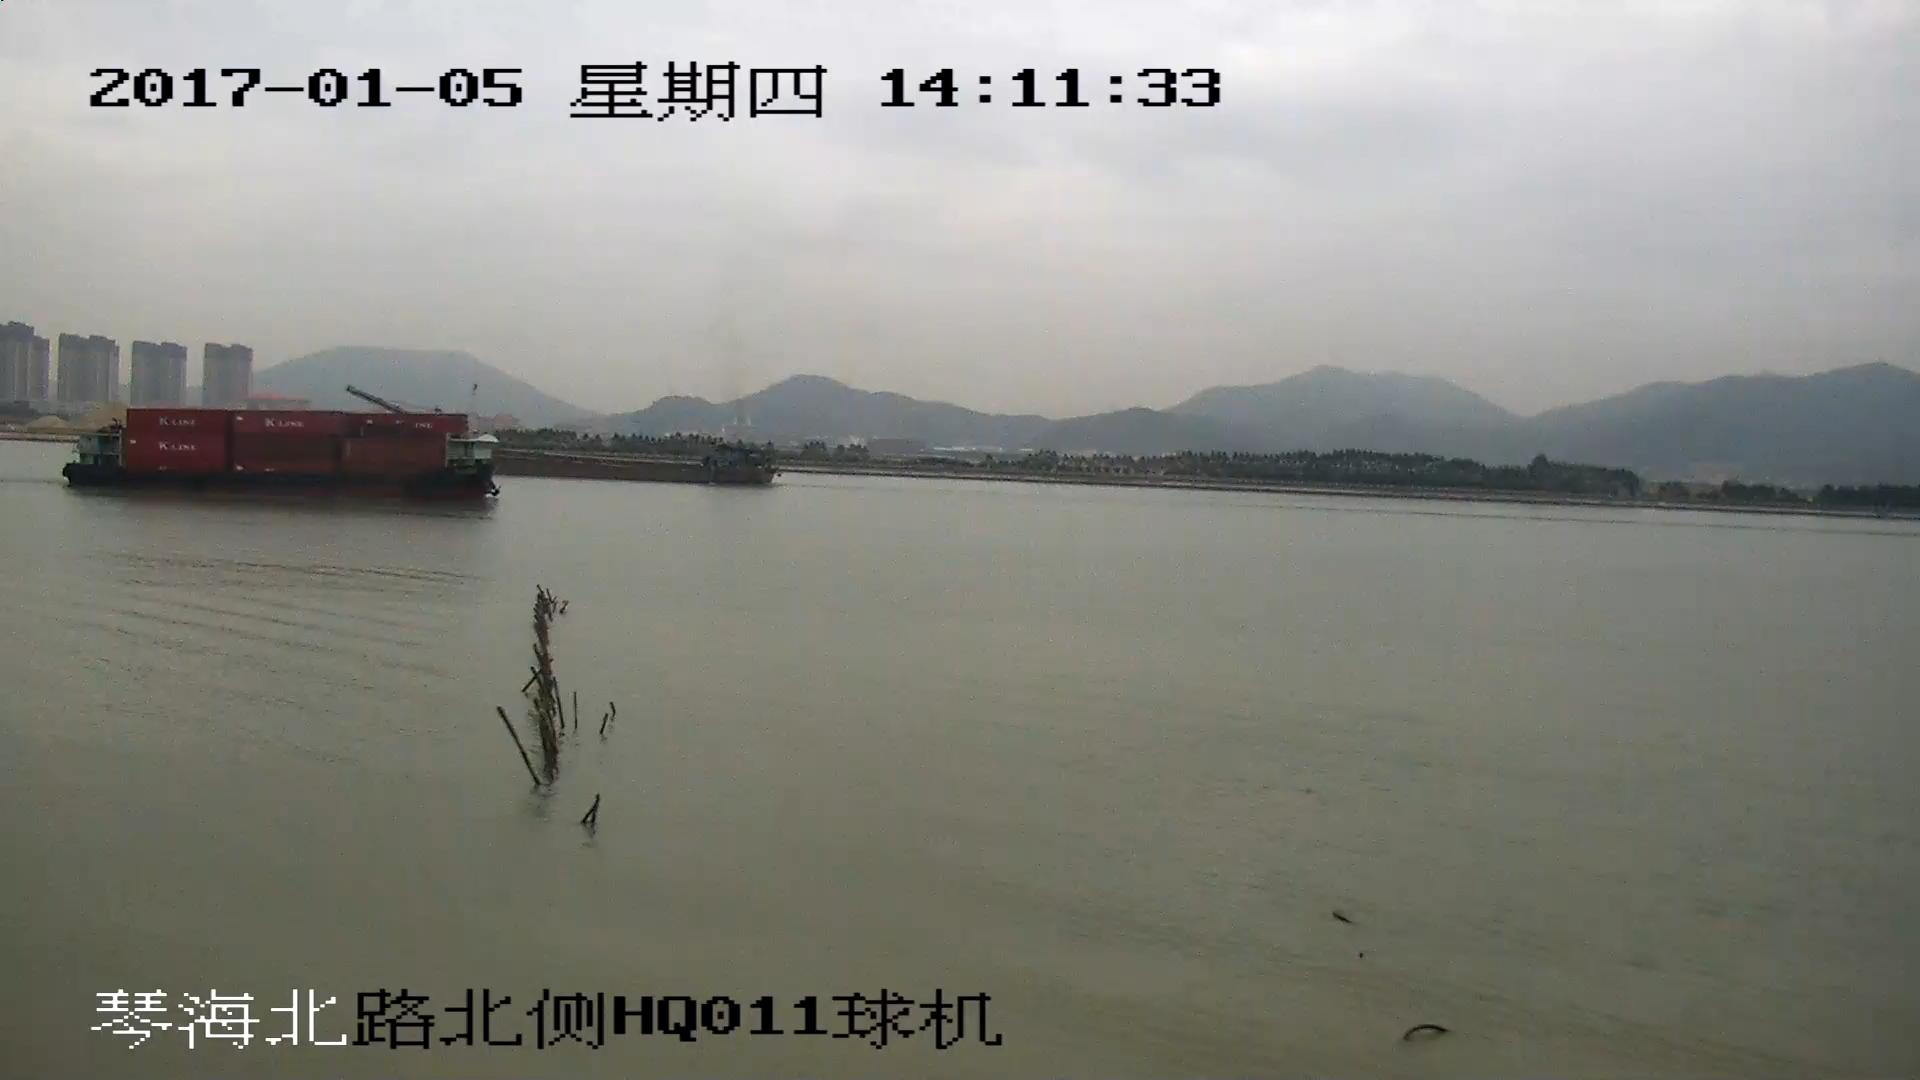bulk cargo carrier: (488, 440, 775, 484)
container ship: (64, 405, 498, 507)
